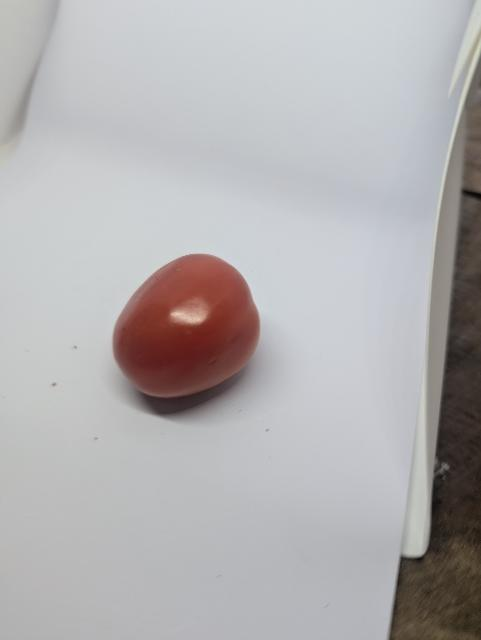red: (112, 251, 264, 402)
